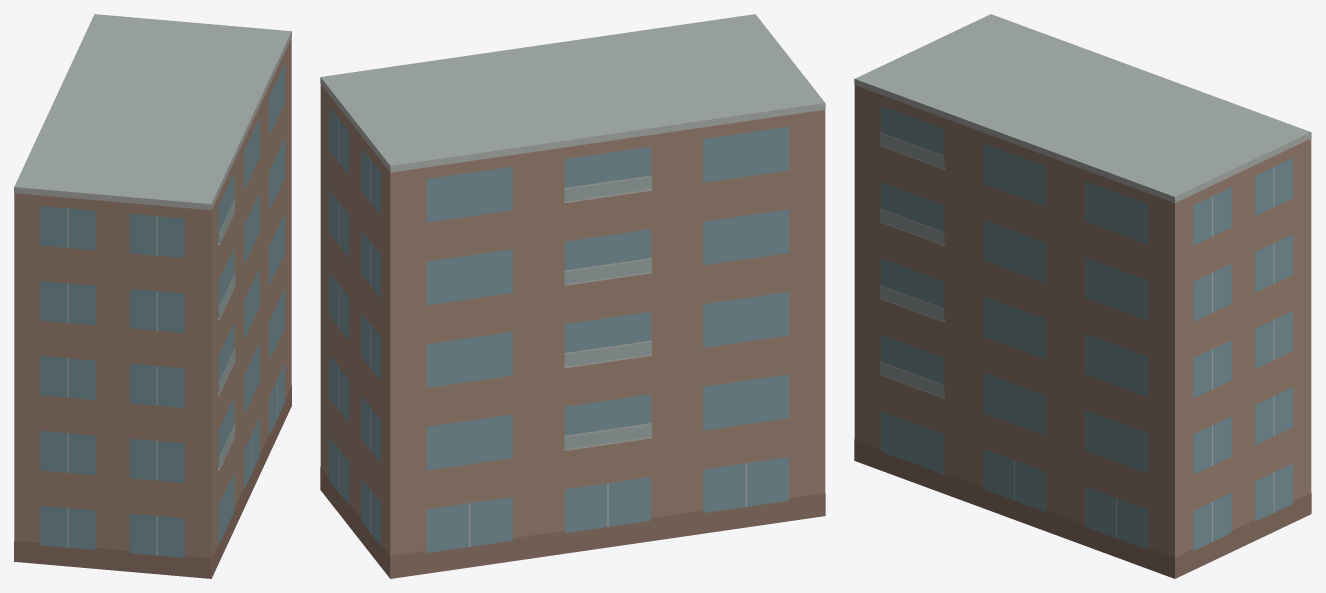
File: survey-upis-32884729.glb
3 views of the same model, side by side, from view 1: azimuth 30°, elevation 25°; view 2: azimuth 150°, elevation 25°; view 3: azimuth 270°, elevation 25° (orthographic). The views are drawn at different scales.
Visible parts, largest first — view 1: survey-upis-32884729.tmp; view 2: survey-upis-32884729.tmp; view 3: survey-upis-32884729.tmp.
Boxes of the visible parts, x1,y1,x2,y2 form: survey-upis-32884729.tmp: (14, 14, 291, 578); survey-upis-32884729.tmp: (320, 14, 825, 578); survey-upis-32884729.tmp: (854, 14, 1311, 578).
Size of the model in its own units: 15.53 by 15.1 by 16.38.
